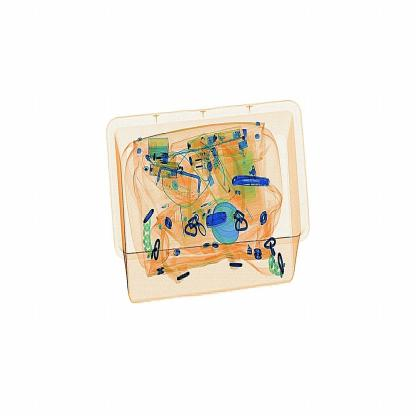knife: (223, 168, 276, 197)
